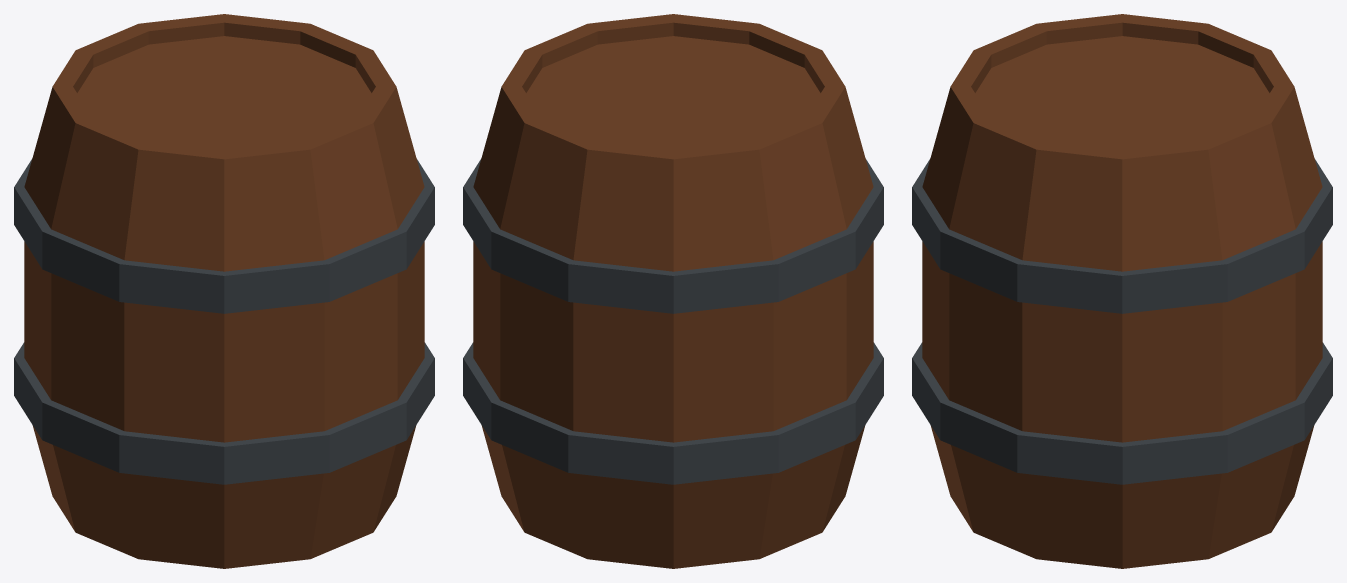
File: BarrelProp_1.fbx
The picture shows the model from 3 angles, left to right: view 1: azimuth 30°, elevation 25°; view 2: azimuth 150°, elevation 25°; view 3: azimuth 270°, elevation 25°; orthographic projection.
Visible parts, largest first — view 1: BarrelProp_1; view 2: BarrelProp_1; view 3: BarrelProp_1.
Part boxes in pixels (x1,y1,x2,y2): BarrelProp_1: [14, 14, 434, 568]; BarrelProp_1: [463, 14, 883, 568]; BarrelProp_1: [912, 14, 1332, 568].
Size of the model in its own units: 113 by 122 by 113.
